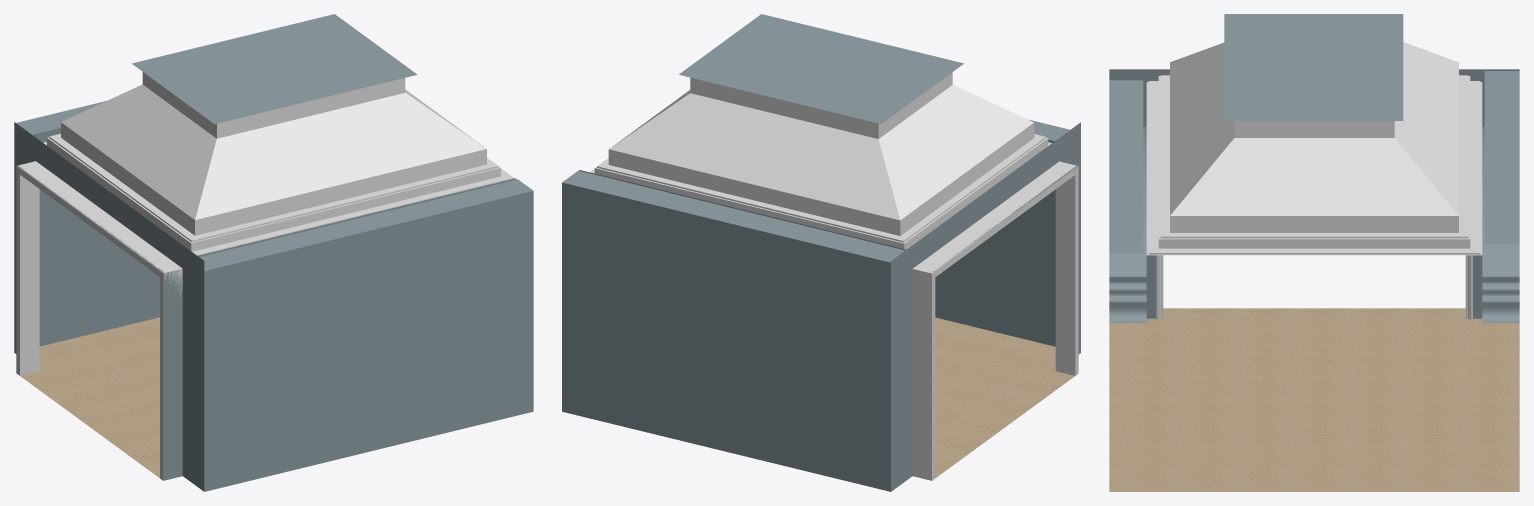
The model's file is BedRoom.FBX.
3 renders of one model, left to right at view 1: azimuth 30°, elevation 25°; view 2: azimuth 150°, elevation 25°; view 3: azimuth 270°, elevation 25°, orthographic. The views are drawn at different scales.
Visible parts, largest first — view 1: BedRoom; view 2: BedRoom; view 3: BedRoom.
Part boxes in pixels (x1,y1,x2,y2): BedRoom: [14, 14, 533, 491]; BedRoom: [562, 14, 1080, 491]; BedRoom: [1109, 14, 1519, 491].
Size of the model in its own units: 746 by 640 by 704.
